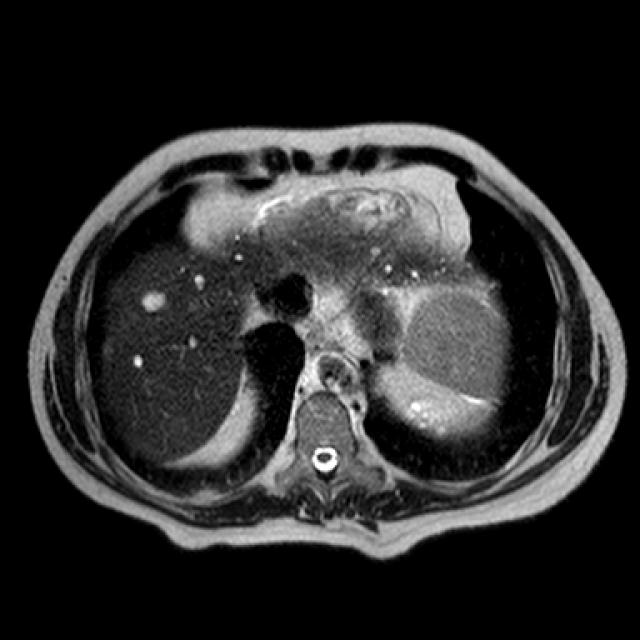sag: (224, 400, 246, 430)
sol: (400, 391, 448, 434)
